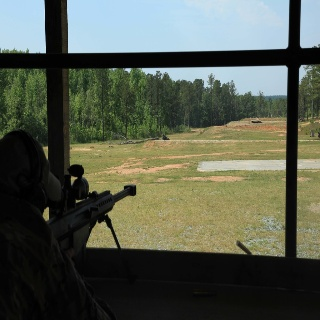rifle: (43, 162, 138, 240)
